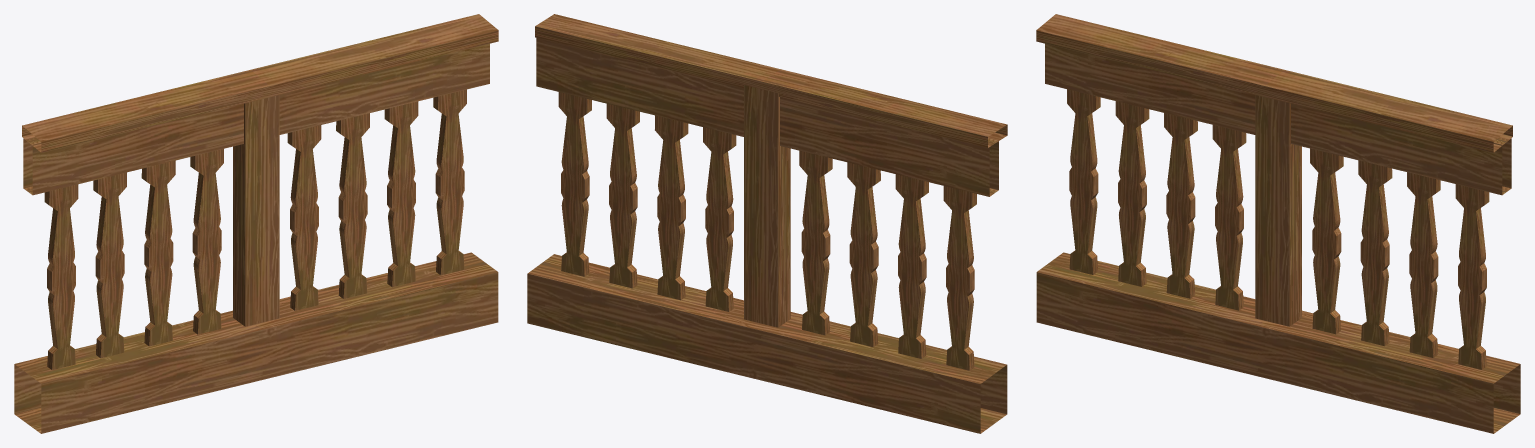
The model's file is Balcony_Simple_Straight.glb.
3 renders of one model, left to right at view 1: azimuth 30°, elevation 25°; view 2: azimuth 150°, elevation 25°; view 3: azimuth 330°, elevation 25°, orthographic.
Visible parts, largest first — view 1: Balcony_Simple_Straight; view 2: Balcony_Simple_Straight; view 3: Balcony_Simple_Straight.
Boxes of the visible parts, x1,y1,x2,y2 form: Balcony_Simple_Straight: (14,14,498,433); Balcony_Simple_Straight: (527,14,1007,433); Balcony_Simple_Straight: (1036,14,1520,433).
Size of the model in its own units: 2 by 1.23 by 0.2063.
1 material, 1 textured.
